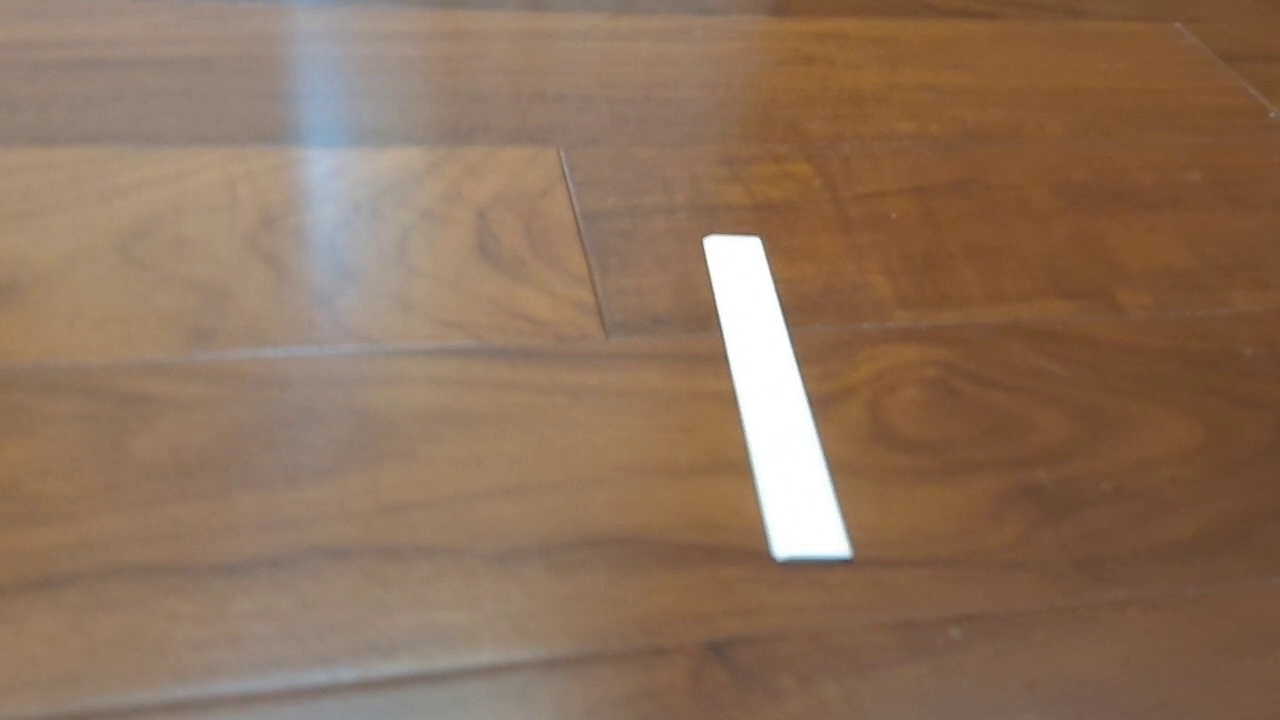ruler: (698, 231, 856, 565)
